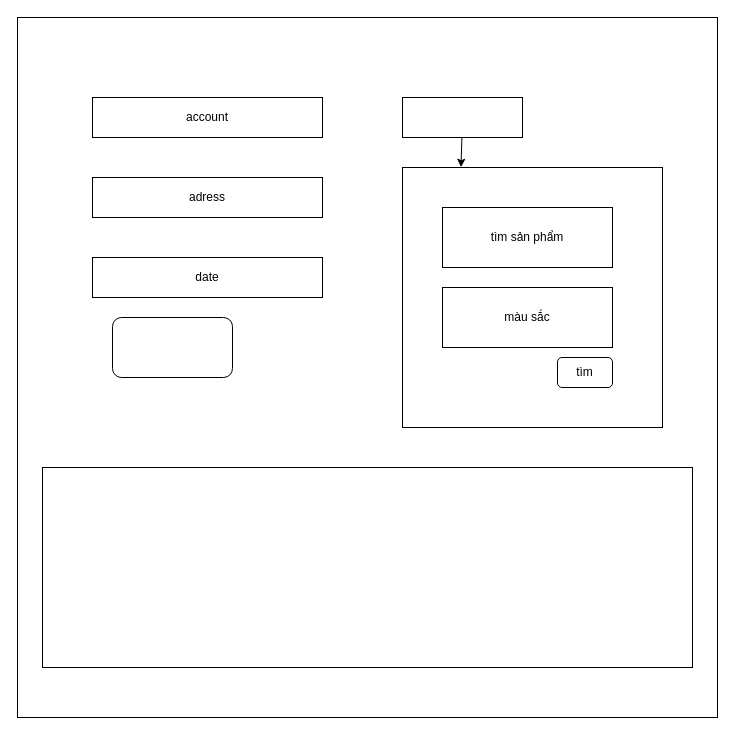
The diagram is 735 pixels wide and 735 high, and some of its shapes have lost their labels. The centre of each missing label's shape, as x and y in pixels:
"add thêm sản phẩm" belongs at (462,117).
"table" belongs at (367,567).
"đặt hàng" belongs at (172,347).
